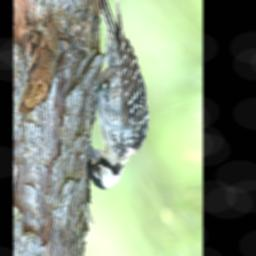Woodpecker: (87, 0, 151, 190)
